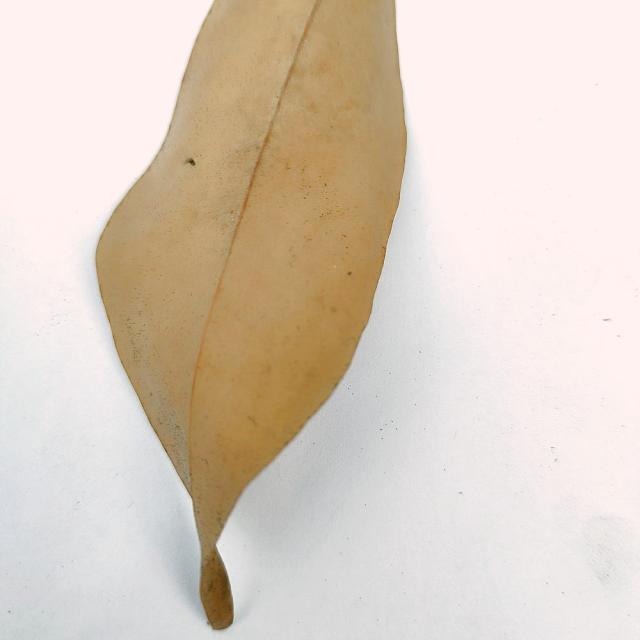Dry_Leaf-Lychee: (94, 0, 408, 633)
